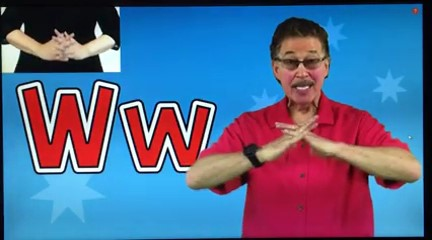W: (257, 110, 346, 162)
